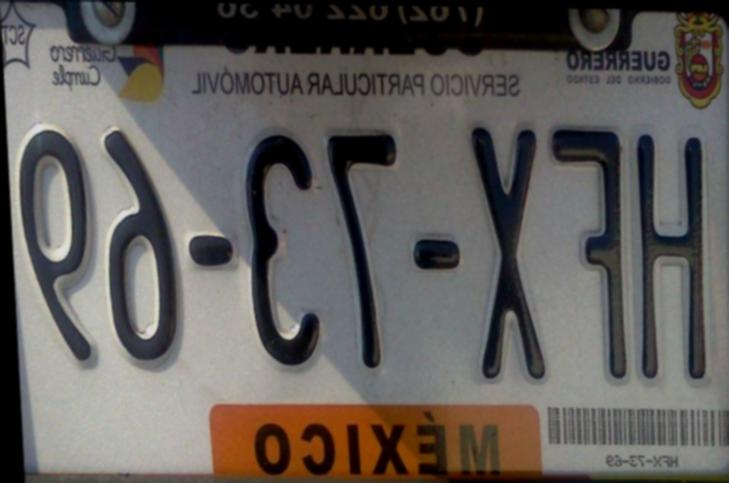License_Plate: (13, 11, 729, 473)
